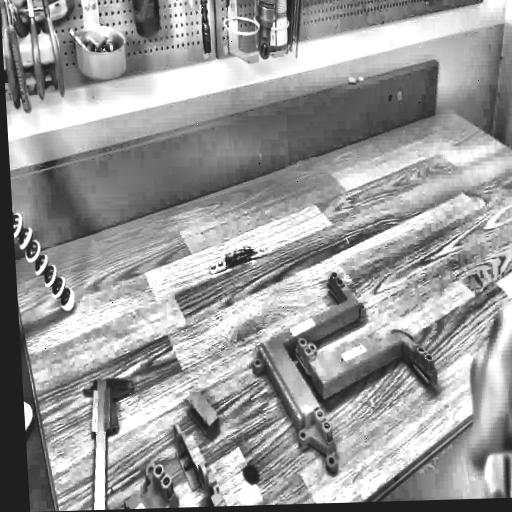battery_module: (240, 254, 451, 474)
